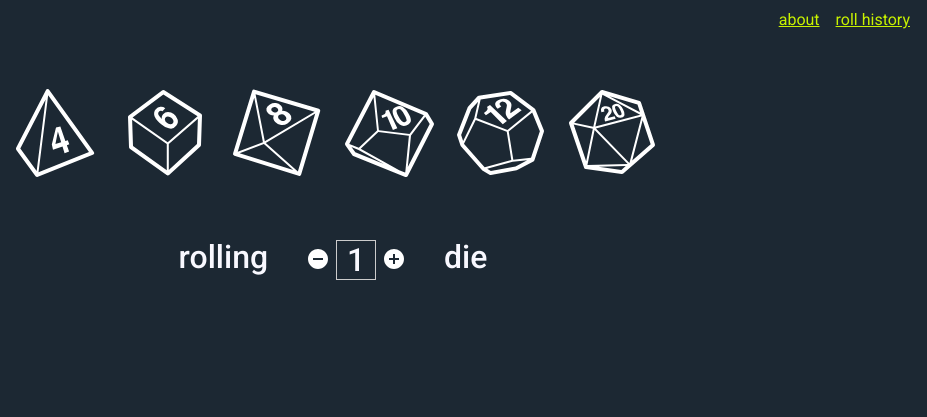
Test: <Roller /> › does not display individual rolls for 1 die
The width and height of the screenshot is (927, 417).
Click the 6th button with alt text "d20". click: click(613, 136)
box: [557,82,669,191]
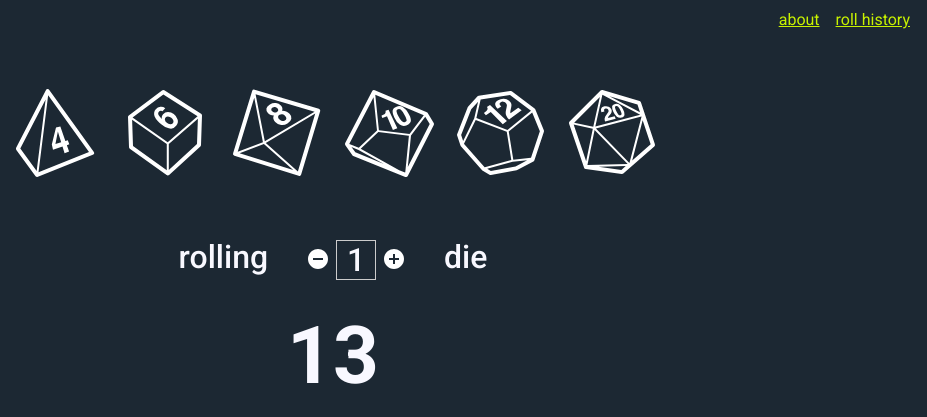
Check: the number of headings "13" is 1, box [287,312,379,400]
